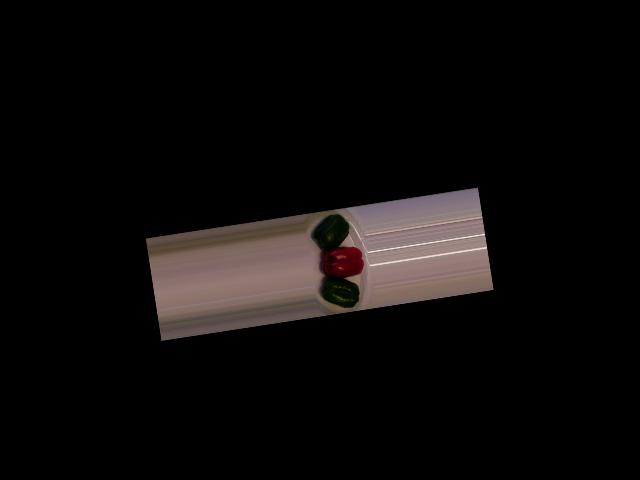bell_pepper: (307, 209, 356, 253)
